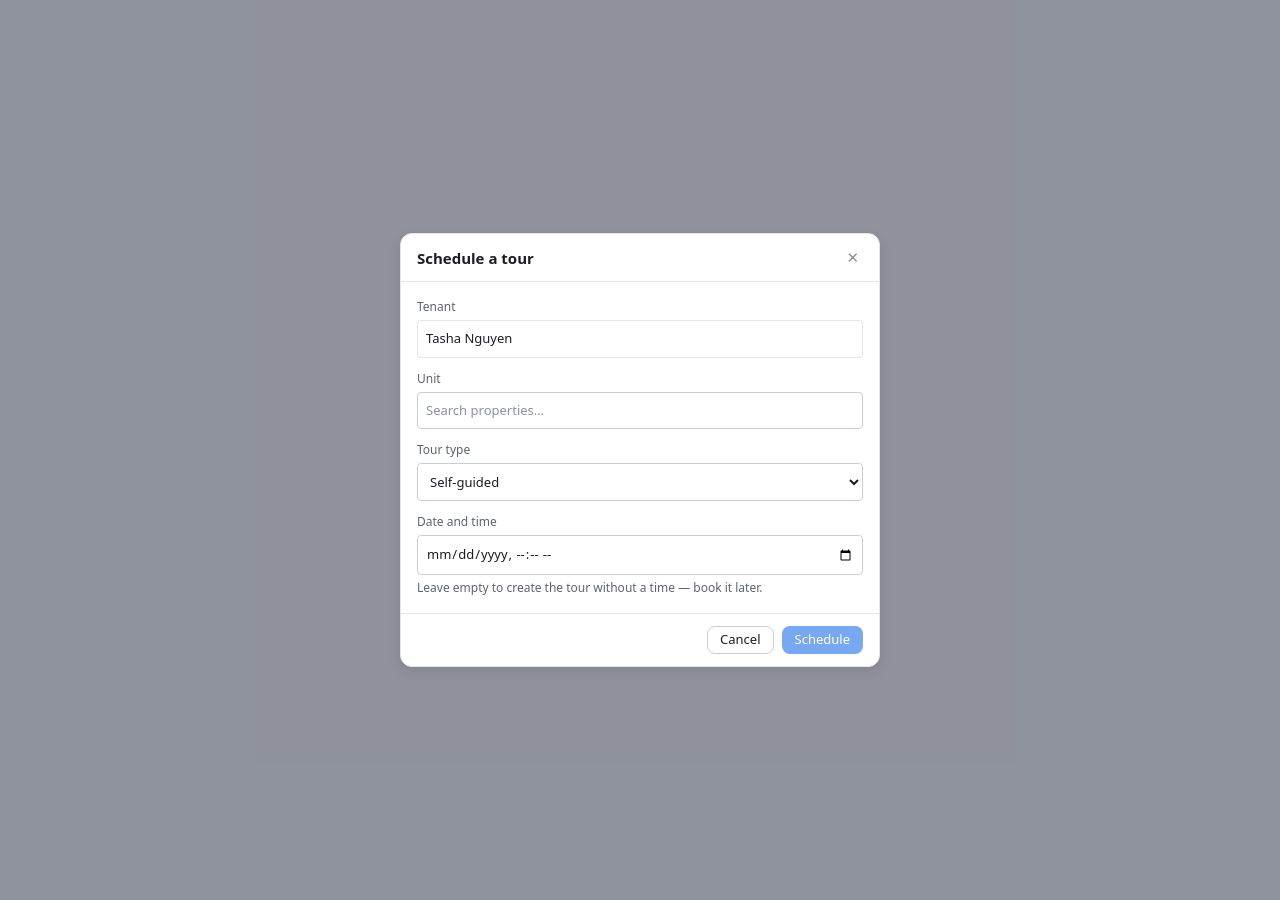
Test: ScheduleTourForm › prefills from the structured tour_type with a "From the property" provenance caption
Check: the dialog "Schedule a tour" is shown, box top-left (400, 233), bottom-right (880, 667)
Type "Peachtree" into the dropdown named "Unit" at point(640, 411), box top-left (417, 392), bottom-right (863, 429)
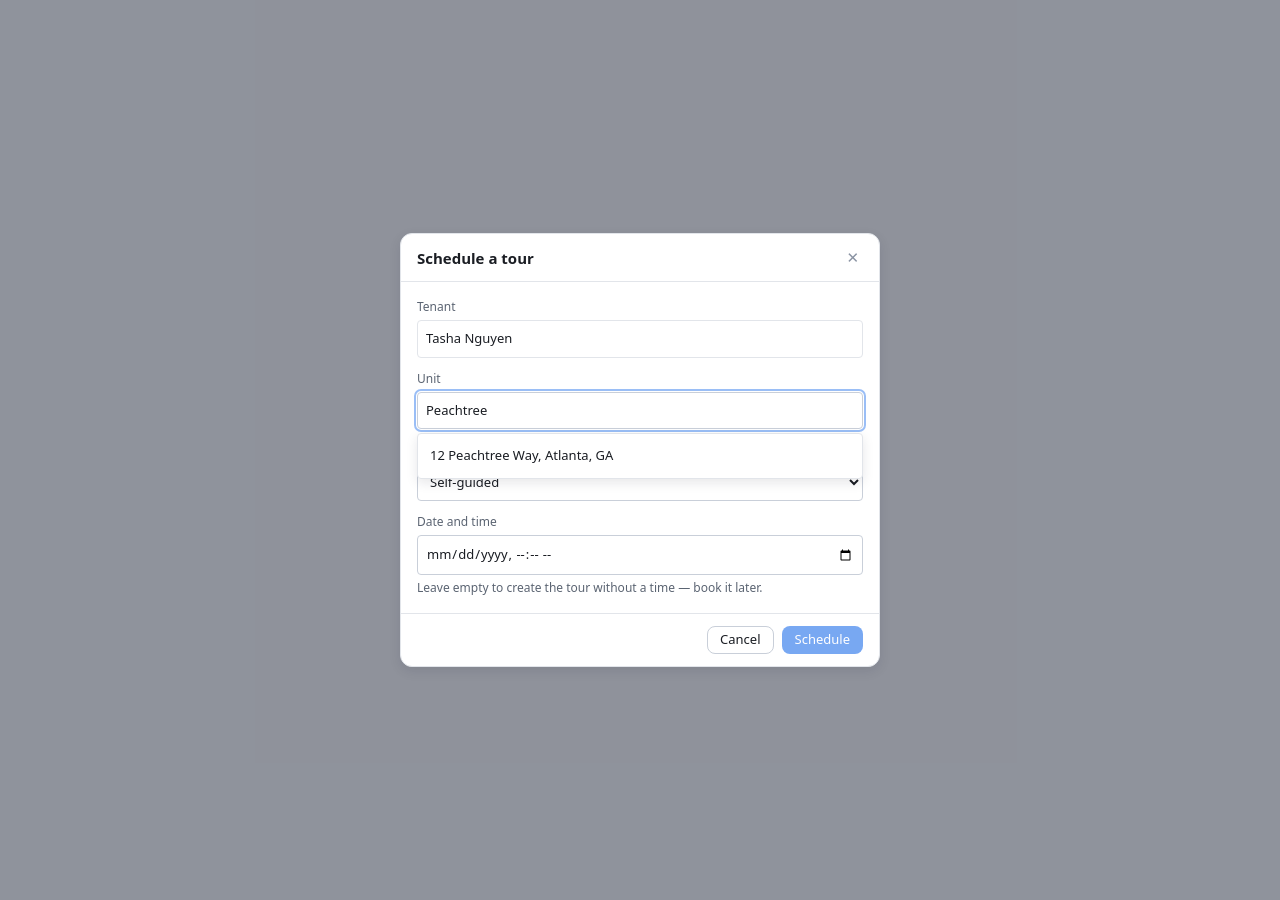
Click the option "12 Peachtree Way, Atlanta, GA" at point(522, 455), box top-left (430, 446), bottom-right (613, 464)
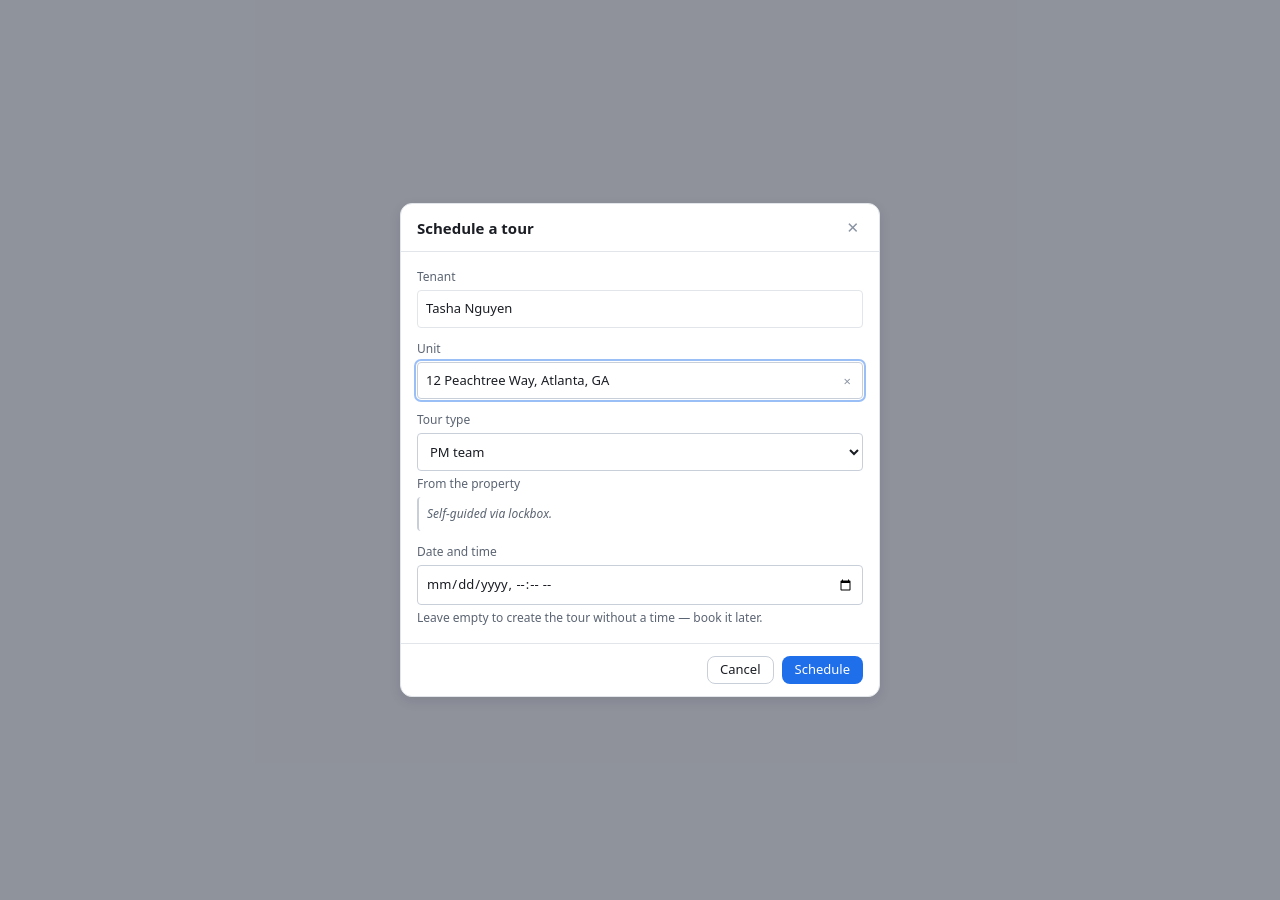
Check: the dropdown named "Tour type" shows "PM team", box top-left (417, 433), bottom-right (863, 471)
Check: the text "From the property" is shown, box top-left (417, 475), bottom-right (520, 492)
Check: the text named "Property tour notes" reads "Self-guided via lockbox.", box top-left (427, 505), bottom-right (552, 522)
